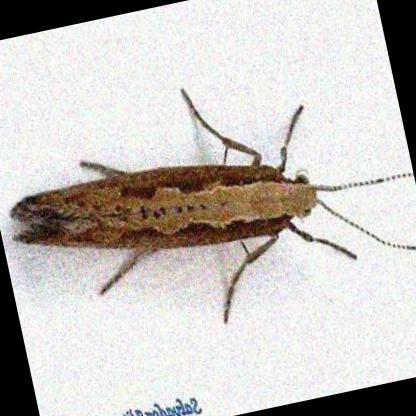plutella: (1, 79, 416, 330)
